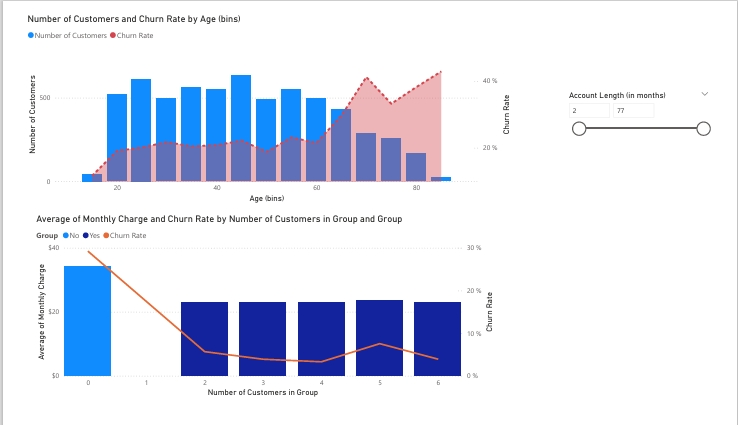

The dashboard page shown, as its layout file describes it:
{"tool":"powerbi","page":{"name":"Age Groups","canvas":[1280,720],"ordinal":1},"visuals":[{"type":"lineStackedColumnComboChart","fields":{"Category":["Databel - Data.Age (bins)"],"Y":["Databel - Data.Number of costumers"],"Y2":["Databel - Data.Churn Rate"]},"box":[16.6,0,880,345.7],"z":0},{"type":"slicer","fields":{"Values":["Databel - Data.Account Length (in months)"]},"box":[985.7,134.3,277.7,226.4],"z":1000},{"type":"lineStackedColumnComboChart","fields":{"Category":["Databel - Data.Number of Customers in Group"],"Y":["Avg(Databel - Data.Monthly Charge)"],"Series":["Databel - Data.Group"],"Y2":["Databel - Data.Churn Rate"]},"box":[33.2,360.8,834.7,336.6],"z":2000}]}

Visuals, with their boxes in screenshot pixels (x1, y1, x2, y2), scaled from the page's 1280x720 canvas onto the 738x425 screenshot:
lineStackedColumnComboChart - Databel - Data.Age (bins) x Databel - Data.Number of costumers: <region>10, 0, 517, 204</region>
slicer - Databel - Data.Account Length (in months): <region>568, 79, 728, 213</region>
lineStackedColumnComboChart - Databel - Data.Number of Customers in Group x Avg(Databel - Data.Monthly Charge): <region>19, 213, 500, 412</region>
